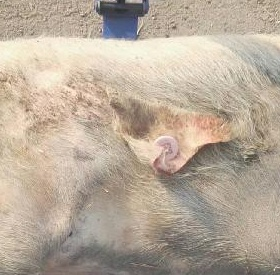text: (134, 116, 195, 176)
